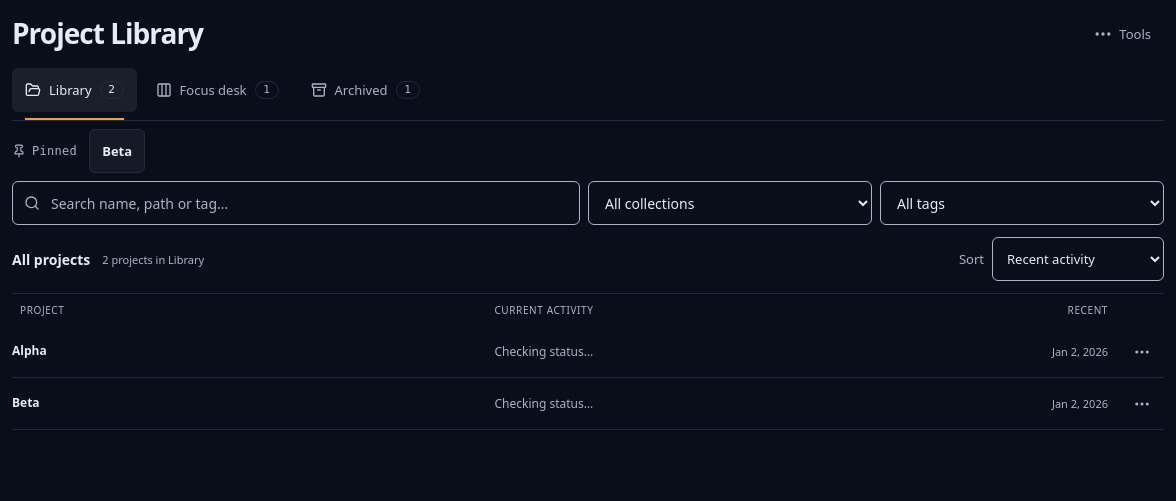
it: Library presentation preserves organization and accessible actions › counts the current filtered set and view without treating it as the entire Library
expect the button with aria-label "Open Alpha" is shown: met, box 12,330 -> 474,374
expect the text "2 projects in Library" is shown: met, box 102,252 -> 204,266
Type "Alpha" into the search field named "Search projects". click: (296, 203)
box: 12,181 -> 580,225
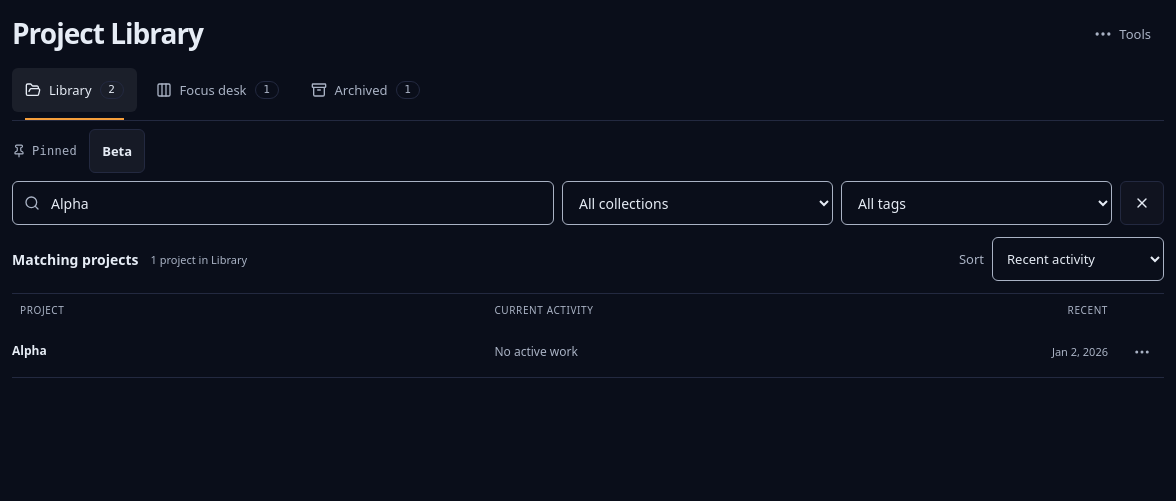
expect the text "1 project in Library" is shown: met, box 150,252 -> 247,266
Replace the text in the search field named "Search projects" with "Absent". click: (283, 203)
box: 12,181 -> 554,225
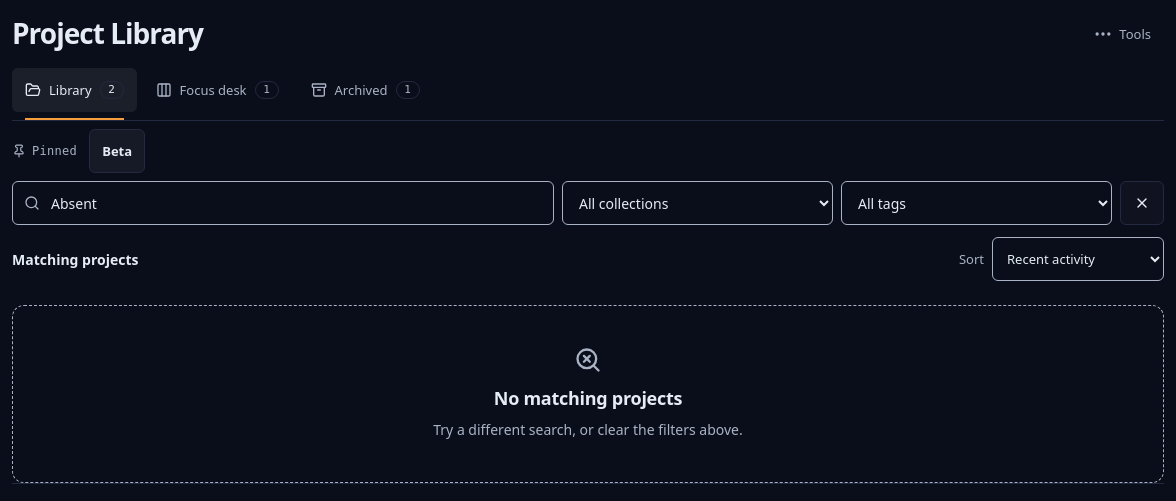
expect the text "1 project in Library" is gone: met
Click the button named "Clear search and filters". click: (1142, 203)
box: 1120,181 -> 1164,225
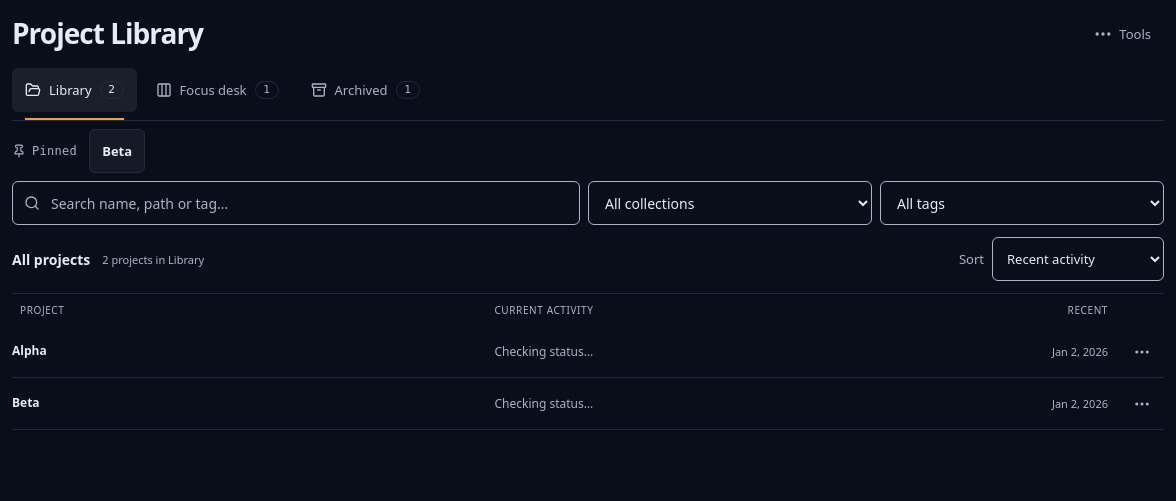
Click the button "Focus desk 1". click: (217, 90)
box: 143,68 -> 292,112
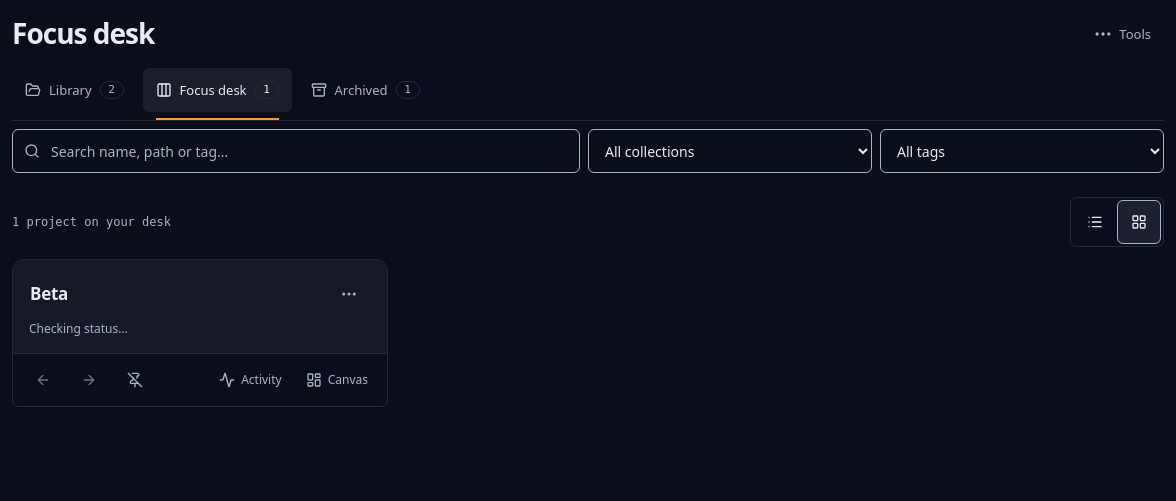
expect the text "1 project on your desk" is shown: met, box 12,213 -> 171,231
Click the button "Archived 1". click: (365, 90)
box: 298,68 -> 433,112
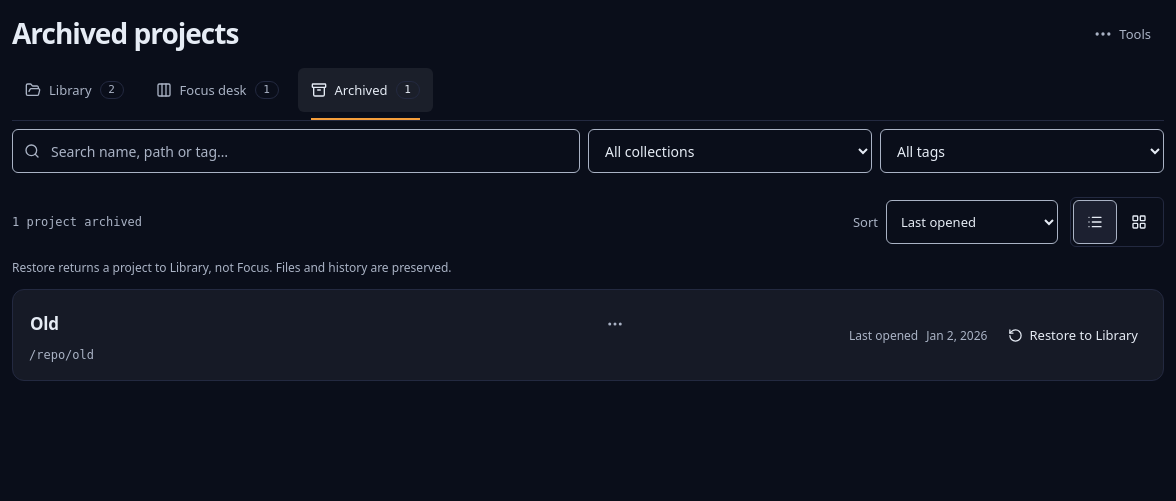
expect the text "1 project archived" is shown: met, box 12,213 -> 142,231
